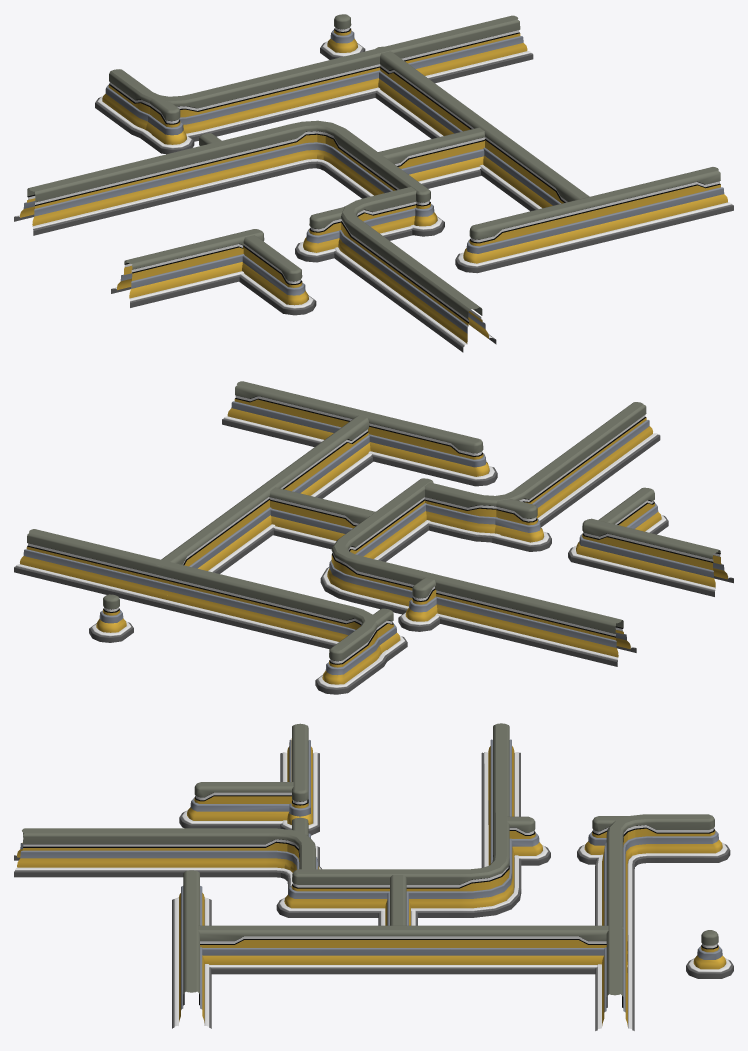
The model's file is Small walls.fbx.
3 views of the same model, one above another, from view 1: azimuth 30°, elevation 25°; view 2: azimuth 150°, elevation 25°; view 3: azimuth 270°, elevation 25° (orthographic). The views are drawn at different scales.
Visible parts, largest first — view 1: Small_wall_L67, Small_wall_L109, Small_wallv1_52, Small_wall_L68, Small_wallv1_48, Small_wallv1_51, Small_wallv1_20, Small_wallv1_107, Small_wallv1_41, Small_wallv1_50, Small_wallv1_108; view 2: Small_wall_L109, Small_wall_L67, Small_wallv1_52, Small_wall_L68, Small_wallv1_48, Small_wallv1_51, Small_wallv1_20, Small_wallv1_50, Small_wallv1_107, Small_wallv1_21, Small_wallv1_108, Small_wallv1_41; view 3: Small_wallv1_48, Small_wall_L67, Small_wall_L68, Small_wall_L109, Small_wallv1_107, Small_wallv1_52, Small_wallv1_51, Small_wallv1_21, Small_wallv1_108, Small_wallv1_20, Small_wallv1_41.
Part boxes in pixels (left/top/right/bottom): Small_wall_L67: left=14, top=120, right=444, bottom=236; Small_wall_L109: left=95, top=15, right=533, bottom=141; Small_wallv1_52: left=455, top=167, right=733, bottom=273; Small_wall_L68: left=334, top=187, right=496, bottom=352; Small_wallv1_48: left=375, top=46, right=589, bottom=211; Small_wallv1_51: left=111, top=229, right=264, bottom=307; Small_wallv1_20: left=378, top=127, right=485, bottom=188; Small_wallv1_107: left=239, top=235, right=316, bottom=315; Small_wallv1_41: left=135, top=98, right=194, bottom=154; Small_wallv1_50: left=295, top=207, right=344, bottom=262; Small_wallv1_108: left=320, top=14, right=365, bottom=59; Small_wall_L109: left=14, top=529, right=387, bottom=694; Small_wall_L67: left=320, top=478, right=636, bottom=666; Small_wallv1_52: left=222, top=381, right=497, bottom=486; Small_wall_L68: left=424, top=402, right=660, bottom=542; Small_wallv1_48: left=156, top=415, right=373, bottom=595; Small_wallv1_51: left=568, top=518, right=733, bottom=596; Small_wallv1_20: left=269, top=487, right=375, bottom=549; Small_wallv1_50: left=491, top=499, right=551, bottom=551; Small_wallv1_107: left=598, top=487, right=668, bottom=534; Small_wallv1_21: left=398, top=577, right=439, bottom=631; Small_wallv1_108: left=89, top=594, right=133, bottom=642; Small_wallv1_41: left=364, top=608, right=407, bottom=661; Small_wallv1_48: left=198, top=925, right=627, bottom=974; Small_wall_L67: left=276, top=723, right=521, bottom=917; Small_wall_L68: left=14, top=828, right=321, bottom=892; Small_wall_L109: left=595, top=814, right=730, bottom=1030; Small_wallv1_107: left=179, top=782, right=293, bottom=828; Small_wallv1_52: left=172, top=870, right=211, bottom=1028; Small_wallv1_51: left=280, top=723, right=319, bottom=835; Small_wallv1_21: left=507, top=816, right=550, bottom=865; Small_wallv1_108: left=686, top=930, right=733, bottom=978; Small_wallv1_20: left=378, top=875, right=417, bottom=925; Small_wallv1_41: left=577, top=816, right=634, bottom=864.
Bounding box in the file's own units: 576 × 39.12 × 627.
